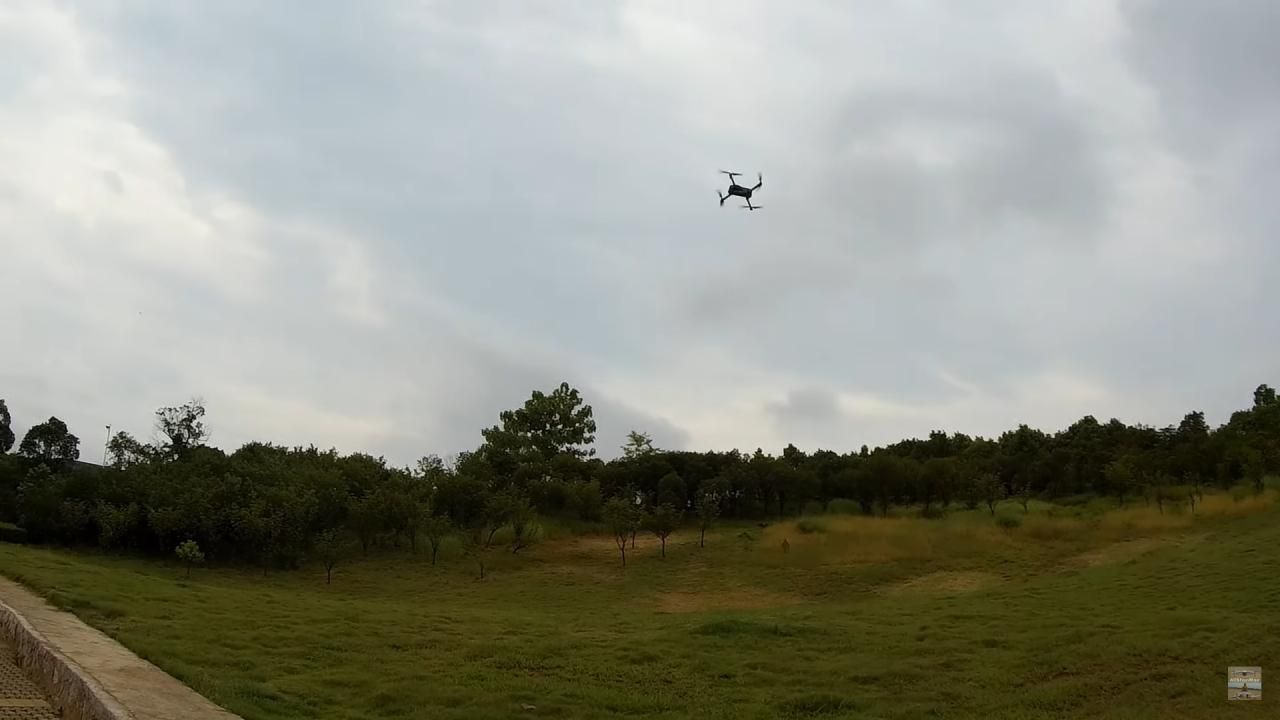Drone: (703, 157, 775, 223)
